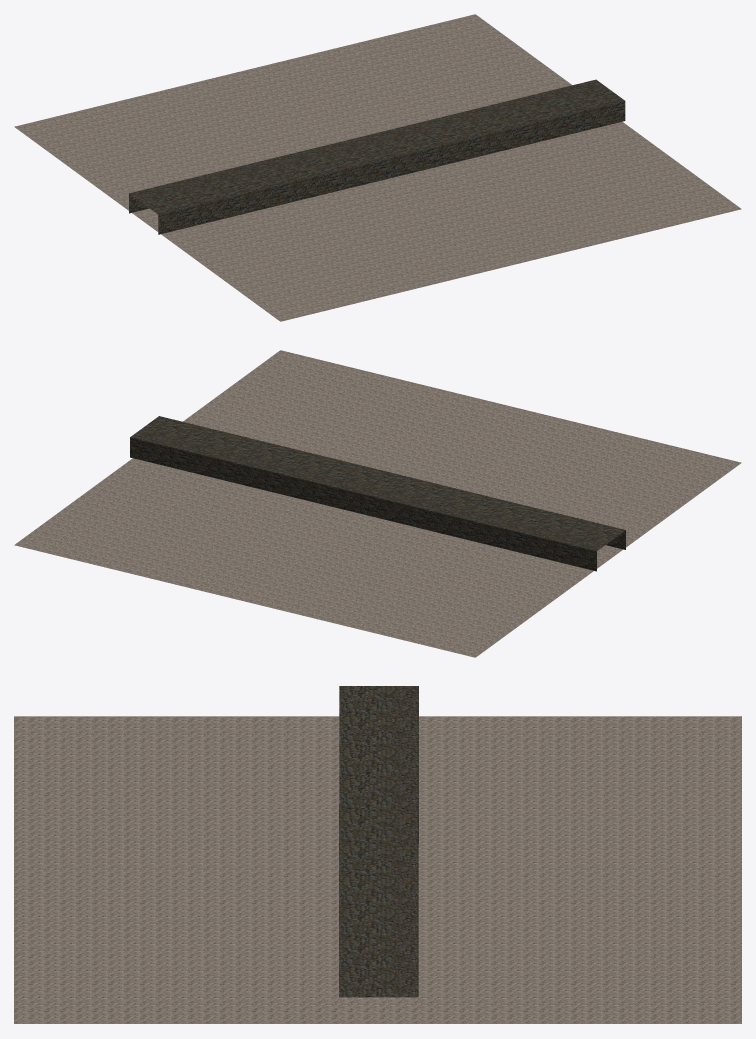
File: Dungeon.glb
3 views of the same model, one above another, from view 1: azimuth 30°, elevation 25°; view 2: azimuth 150°, elevation 25°; view 3: azimuth 270°, elevation 25° (orthographic). The views are drawn at different scales.
Visible parts, largest first — view 1: dungeonwall; view 2: dungeonwall; view 3: dungeonwall.
Boxes of the visible parts, <box> form: dungeonwall: <box>14,14,741,321</box>; dungeonwall: <box>14,350,741,657</box>; dungeonwall: <box>14,686,741,1023</box>.
Size of the model in its own units: 97.14 by 4.11 by 96.
2 materials, 2 textured.
